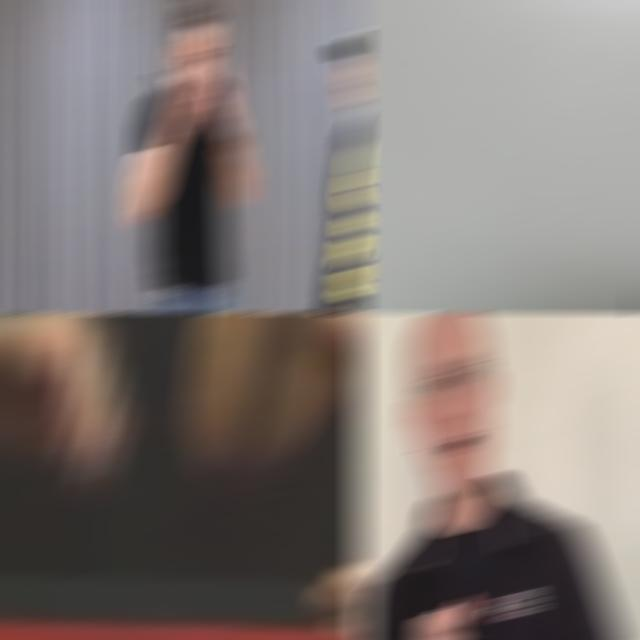Knife_Handle: (150, 66, 204, 147)
